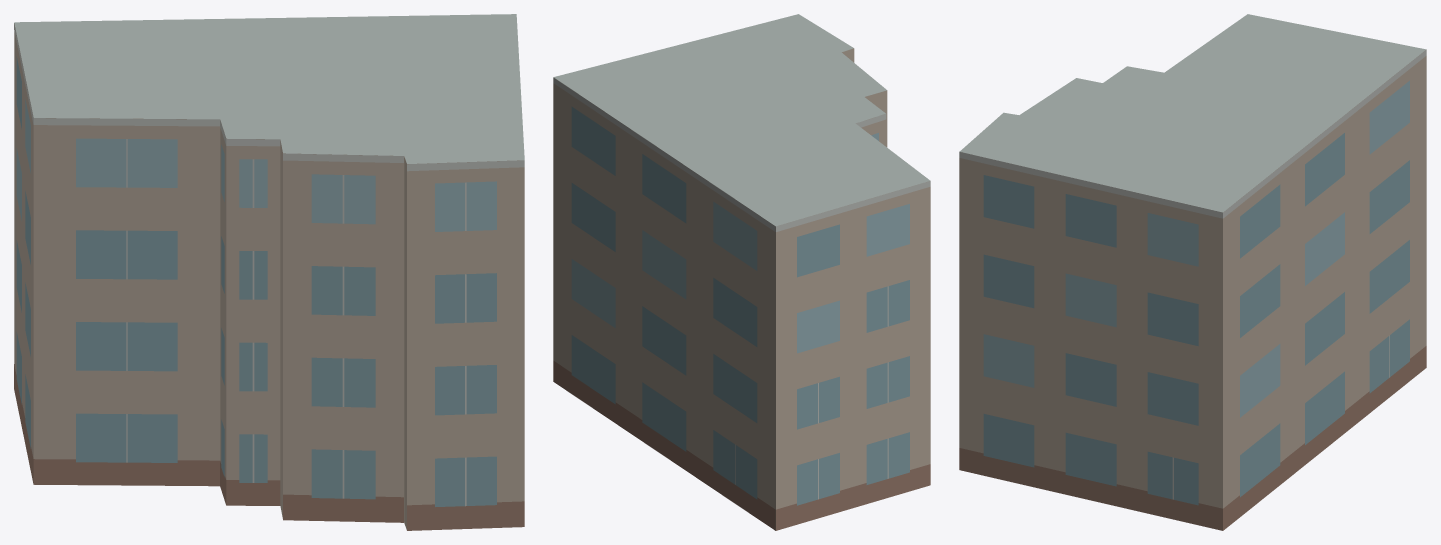
The model's file is survey-upis-32671714.glb.
3 views of the same model, side by side, from view 1: azimuth 30°, elevation 25°; view 2: azimuth 150°, elevation 25°; view 3: azimuth 270°, elevation 25° (orthographic). The views are drawn at different scales.
Visible parts, largest first — view 1: survey-upis-32671714.tmp; view 2: survey-upis-32671714.tmp; view 3: survey-upis-32671714.tmp.
Boxes of the visible parts, x1=… form: survey-upis-32671714.tmp: x1=14, y1=14, x2=524, y2=530; survey-upis-32671714.tmp: x1=553, y1=14, x2=930, y2=530; survey-upis-32671714.tmp: x1=959, y1=14, x2=1426, y2=530.
Size of the model in its own units: 16.86 by 12.6 by 16.76.
